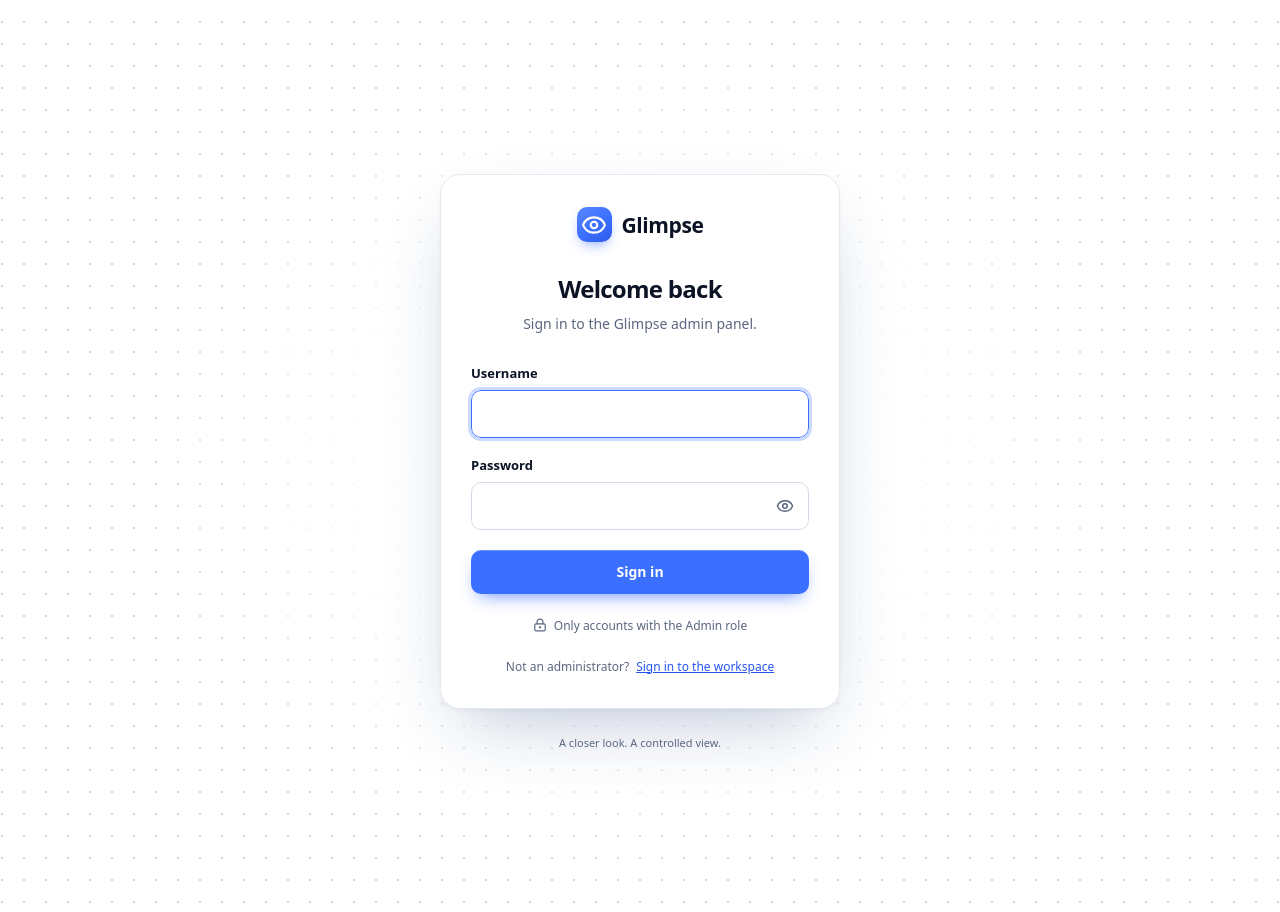
asks for the admin sign-in first and then shows the dashboard
Check: the text "Sign in to the Glimpse admin panel." is shown, box [523,314,757,333]
Step 1. Type "root.admin" into the field labelled "Username" → coordinates (640, 414), box [471,390,809,438]
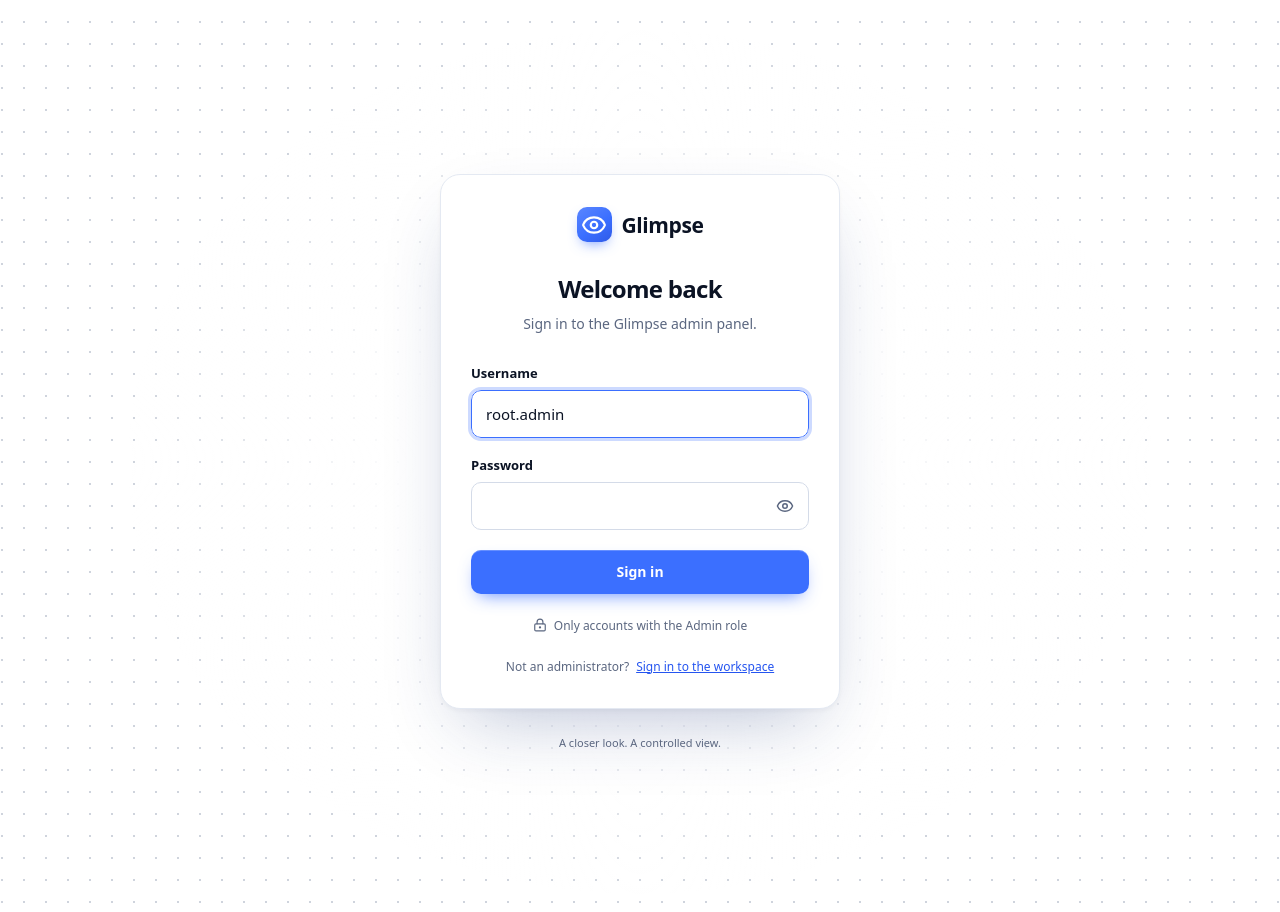
Step 2. Type "admin panel password" into the password field labelled "Password" → coordinates (640, 506), box [471,482,809,530]
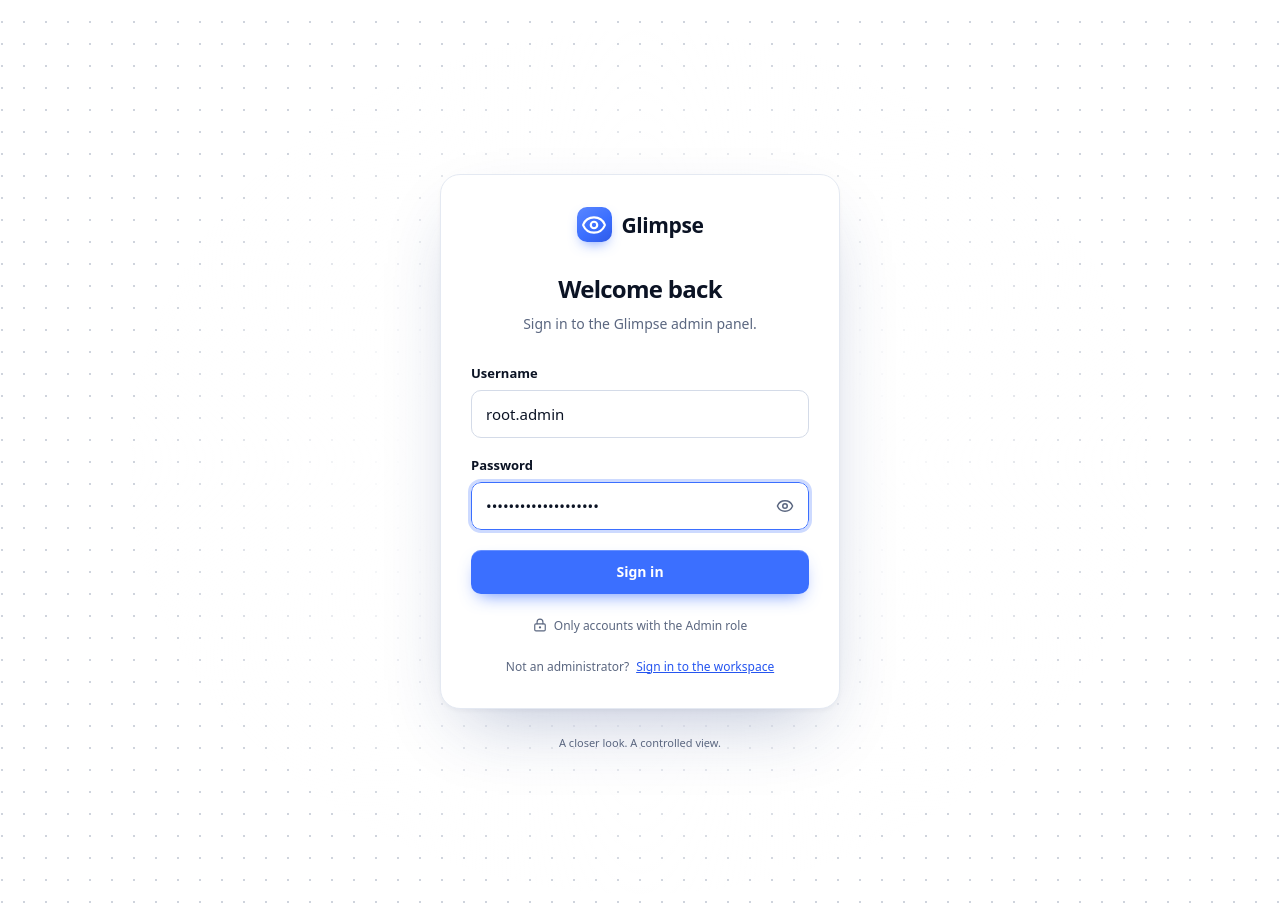
Step 3. Click the button "Sign in" → coordinates (640, 572), box [471,550,809,594]
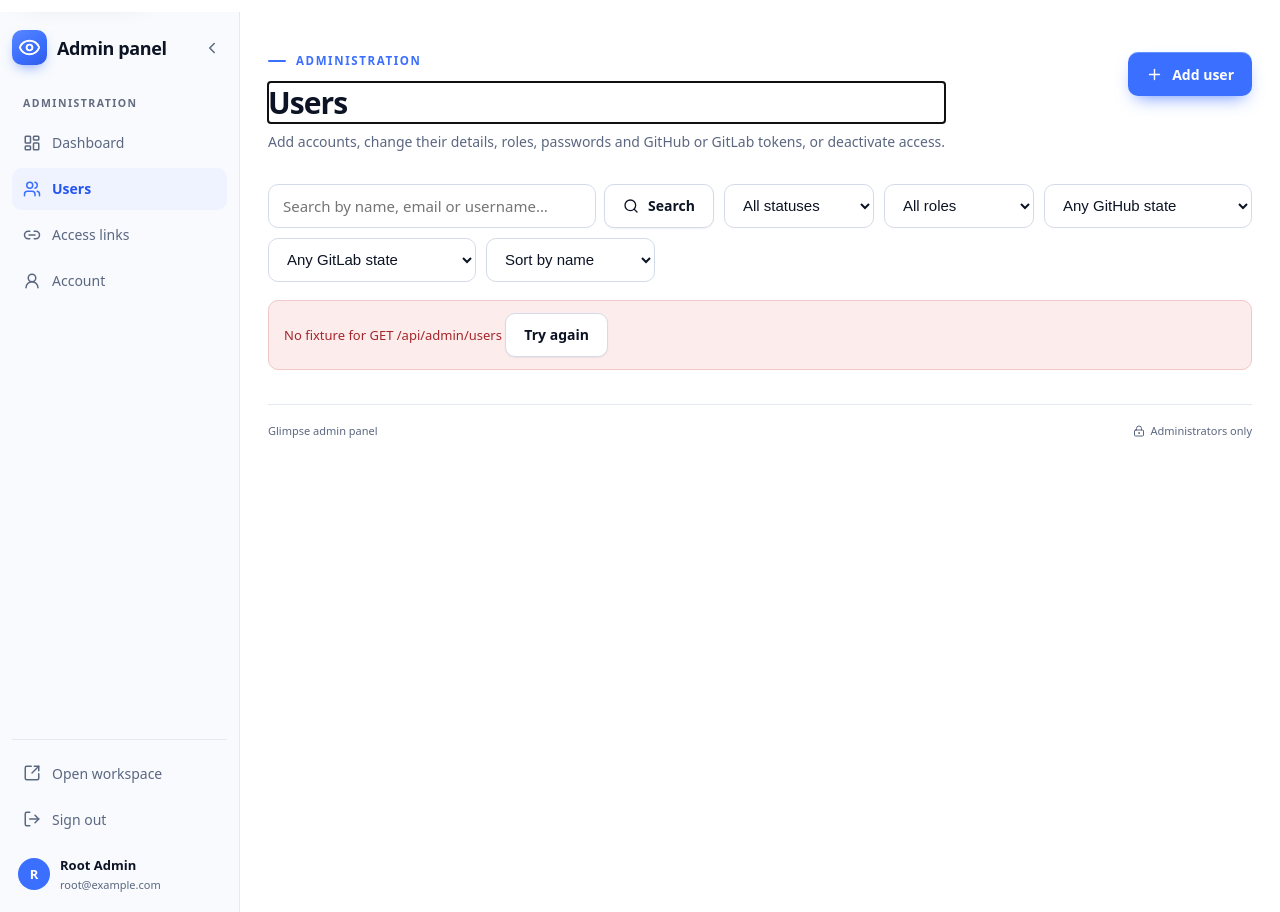
Step 4. Click the link "Dashboard" → coordinates (74, 143), box [23,133,124,152]
(page scrolled)
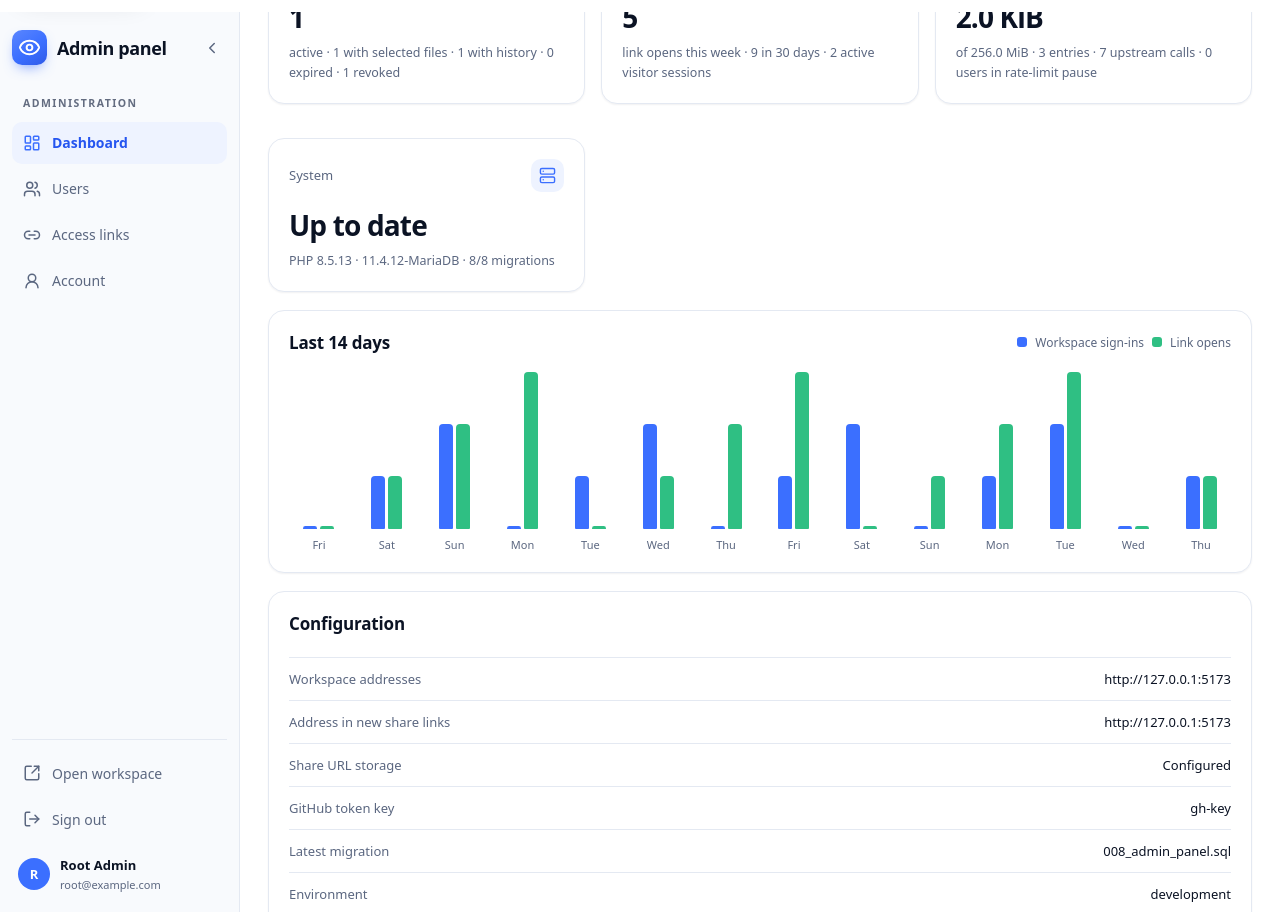
Check: the element "System" shows "Up to date", box [289,206,427,244]
Check: the picture named "Workspace sign-ins and link opens" is shown, box [289,372,1231,552]
